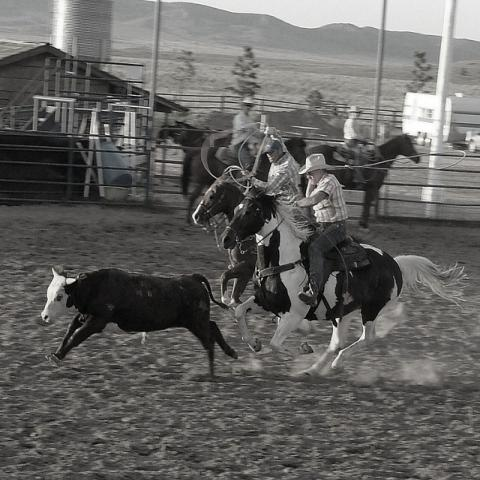car: (468, 131, 479, 153)
